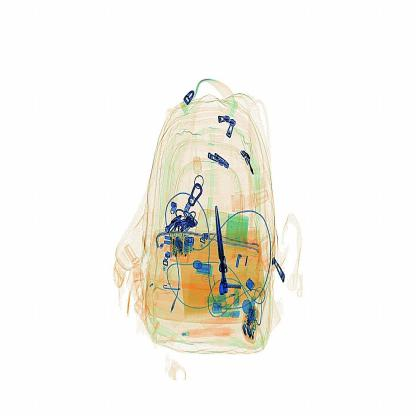gun: (204, 198, 236, 304)
